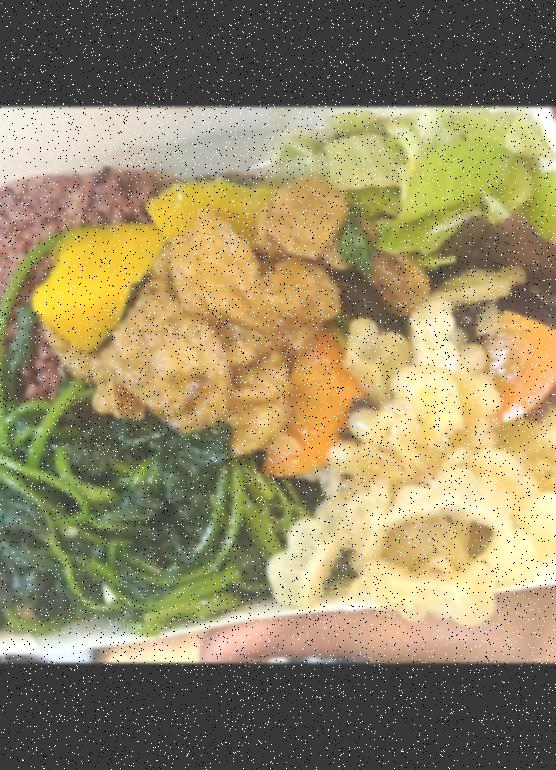box: (0, 111, 556, 663)
purple rice: (0, 157, 246, 424)
side dish: (45, 177, 343, 466), (279, 376, 556, 618), (0, 432, 296, 630), (289, 117, 556, 247), (343, 254, 556, 401)
